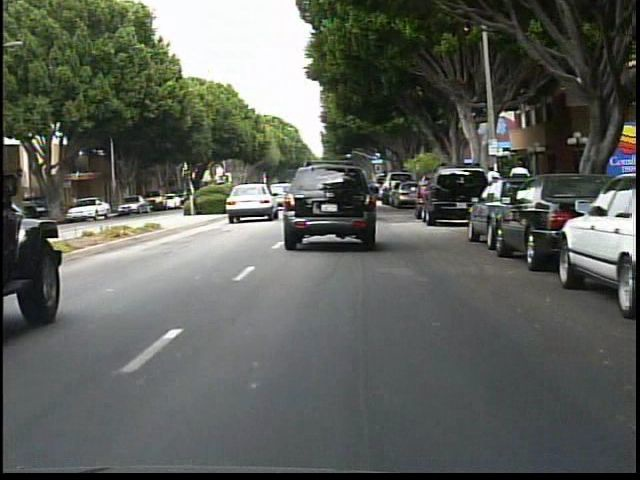person: (506, 157, 531, 217), (480, 163, 503, 211), (68, 190, 85, 221)
